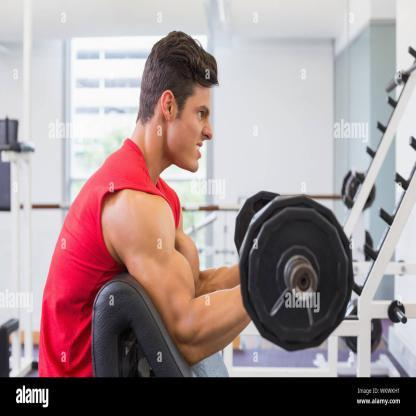Barbell: (279, 253, 323, 306), (291, 262, 323, 306)
